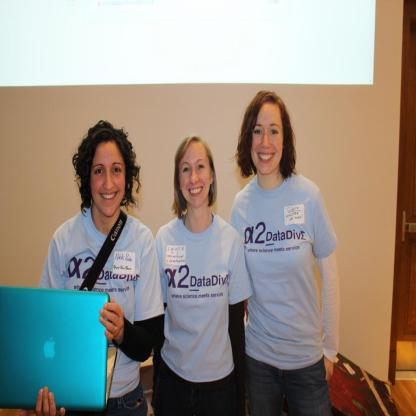board: (0, 284, 116, 410)
